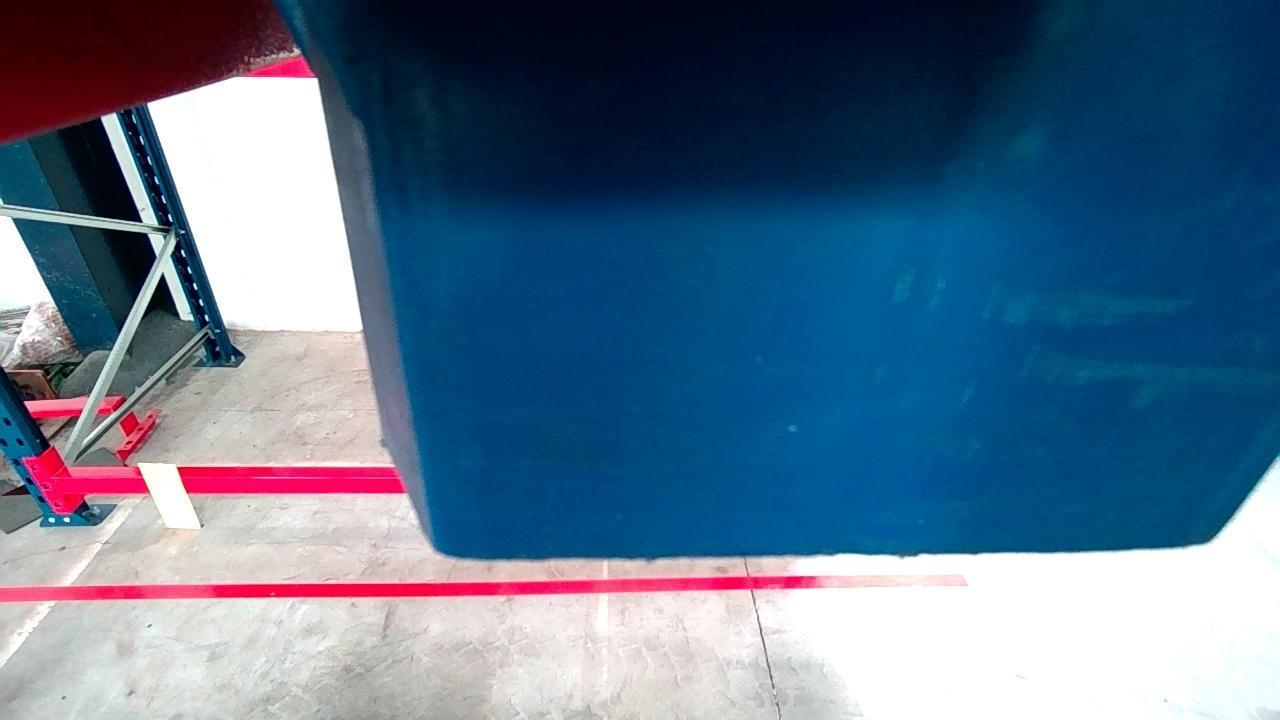h_rack: (45, 477, 409, 496)
orange_strip: (139, 460, 200, 528)
red_line: (0, 572, 964, 601)
